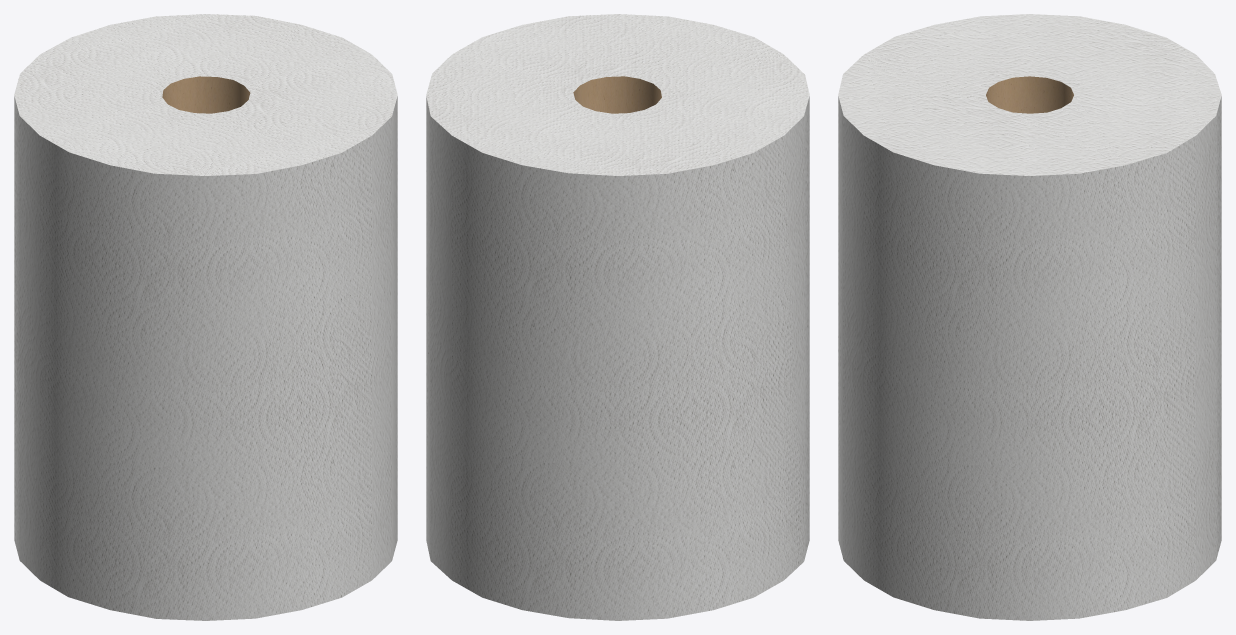
File: paperTowelRoll.gltf
The picture shows the model from 3 angles, left to right: view 1: azimuth 30°, elevation 25°; view 2: azimuth 150°, elevation 25°; view 3: azimuth 270°, elevation 25°; orthographic projection.
Parts seen in each view (by area): view 1: paperTowel001; view 2: paperTowel001; view 3: paperTowel001.
Part boxes in pixels (x1=…): paperTowel001: x1=14, y1=14, x2=397, y2=620; paperTowel001: x1=426, y1=14, x2=809, y2=620; paperTowel001: x1=838, y1=14, x2=1221, y2=620.
Bounding box in the file's own units: 0.2188 × 0.28 × 0.2188.
